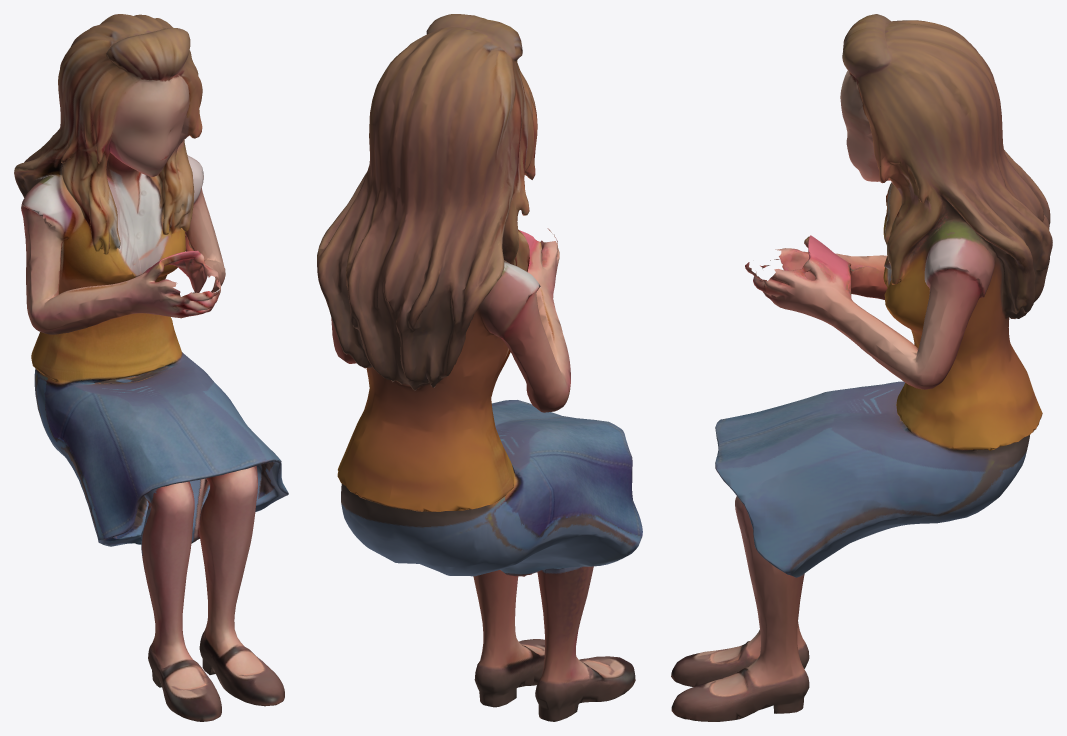
The model's file is user_b_sit_phone.glb.
3 renders of one model, left to right at view 1: azimuth 30°, elevation 25°; view 2: azimuth 150°, elevation 25°; view 3: azimuth 270°, elevation 25°, orthographic. The views are drawn at different scales.
Parts seen in each view (by area): view 1: geometry_0; view 2: geometry_0; view 3: geometry_0.
Boxes of the visible parts, <box> form: geometry_0: <box>14,14,288,721</box>; geometry_0: <box>317,14,642,721</box>; geometry_0: <box>671,14,1052,721</box>.
Size of the model in its own units: 0.3297 by 1 by 0.5175.
1 material, 1 textured.
